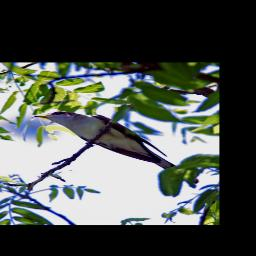Cuckoo: (31, 111, 200, 184)
